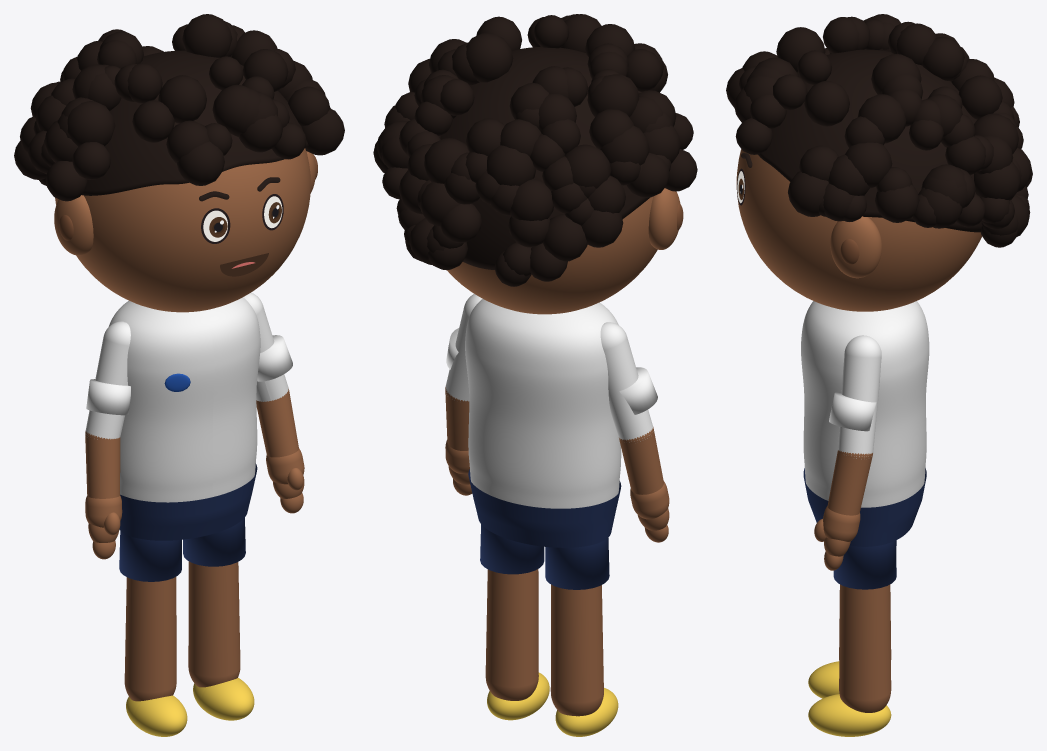
File: klasgenoot_b.glb
The picture shows the model from 3 angles, left to right: view 1: azimuth 30°, elevation 25°; view 2: azimuth 150°, elevation 25°; view 3: azimuth 270°, elevation 25°; orthographic projection. The views are drawn at different scales.
Visible parts, largest first — view 1: klasgenoot_b_romp, klasgenoot_b_hoofd, klasgenoot_b_haar, klasgenoot_b_been_L, klasgenoot_b_been_R, klasgenoot_b_short_heup, klasgenoot_b_bovenarm_R, klasgenoot_b_short_R, klasgenoot_b_onderarm_R, klasgenoot_b_short_L, klasgenoot_b_onderarm_L, klasgenoot_b_schoen_R (+34 smaller); view 2: klasgenoot_b_romp, klasgenoot_b_hoofd, klasgenoot_b_haar, klasgenoot_b_been_L, klasgenoot_b_been_R, klasgenoot_b_short_heup, klasgenoot_b_bovenarm_R, klasgenoot_b_short_R, klasgenoot_b_short_L, klasgenoot_b_onderarm_R, klasgenoot_b_krul60, klasgenoot_b_krul28 (+56 smaller); view 3: klasgenoot_b_romp, klasgenoot_b_hoofd, klasgenoot_b_haar, klasgenoot_b_been_L, klasgenoot_b_bovenarm_L, klasgenoot_b_short_heup, klasgenoot_b_short_L, klasgenoot_b_schoen_L, klasgenoot_b_oor_L, klasgenoot_b_onderarm_L, klasgenoot_b_krul55, klasgenoot_b_krul0 (+38 smaller).
Part boxes in pixels (x1,y1,x2,y2): klasgenoot_b_romp: (108, 297, 260, 502); klasgenoot_b_hoofd: (55, 148, 310, 312); klasgenoot_b_haar: (81, 50, 308, 195); klasgenoot_b_been_L: (188, 561, 240, 687); klasgenoot_b_been_R: (124, 577, 176, 701); klasgenoot_b_short_heup: (119, 463, 257, 540); klasgenoot_b_bovenarm_R: (85, 321, 130, 439); klasgenoot_b_short_R: (119, 531, 181, 581); klasgenoot_b_onderarm_R: (85, 431, 120, 498); klasgenoot_b_short_L: (183, 518, 245, 566); klasgenoot_b_onderarm_L: (256, 392, 298, 457); klasgenoot_b_schoen_R: (126, 695, 187, 736); klasgenoot_b_romp: (465, 299, 621, 508); klasgenoot_b_hoofd: (447, 196, 657, 314); klasgenoot_b_haar: (440, 47, 649, 269); klasgenoot_b_been_L: (485, 569, 538, 700); klasgenoot_b_been_R: (550, 584, 603, 716); klasgenoot_b_short_heup: (468, 469, 621, 547); klasgenoot_b_bovenarm_R: (600, 322, 653, 442); klasgenoot_b_short_R: (545, 537, 609, 589); klasgenoot_b_short_L: (480, 524, 544, 574); klasgenoot_b_onderarm_R: (619, 430, 663, 494); klasgenoot_b_krul60: (466, 32, 513, 82); klasgenoot_b_krul28: (587, 74, 638, 116); klasgenoot_b_romp: (801, 301, 929, 507); klasgenoot_b_hoofd: (736, 149, 982, 311); klasgenoot_b_haar: (758, 49, 981, 232); klasgenoot_b_been_L: (839, 584, 891, 712); klasgenoot_b_bovenarm_L: (838, 335, 881, 459); klasgenoot_b_short_heup: (803, 468, 926, 546); klasgenoot_b_short_L: (833, 540, 896, 589); klasgenoot_b_schoen_L: (808, 694, 891, 736); klasgenoot_b_oor_L: (830, 216, 881, 278); klasgenoot_b_onderarm_L: (827, 450, 872, 515); klasgenoot_b_krul55: (804, 80, 849, 126); klasgenoot_b_krul0: (857, 94, 906, 143).
Bounding box in the file's own units: 0.7223 × 1.68 × 0.6873.
